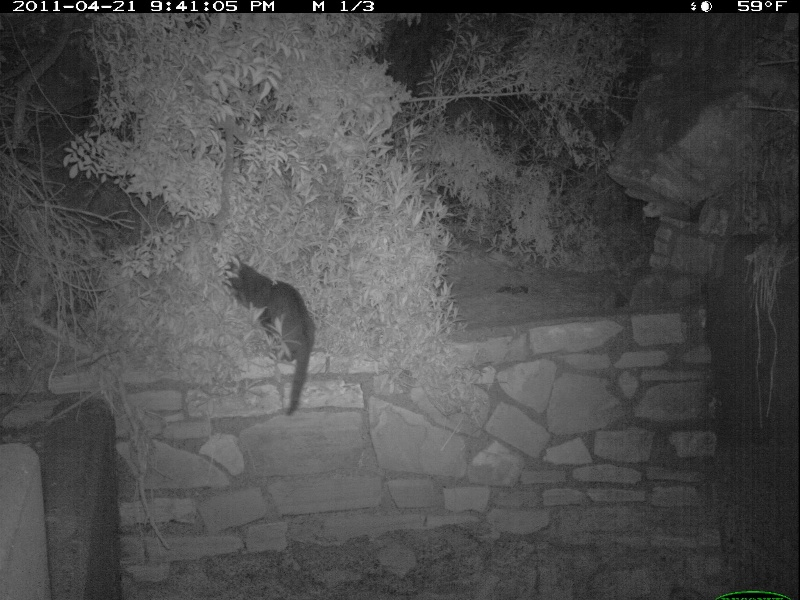cat: (225, 257, 318, 417)
